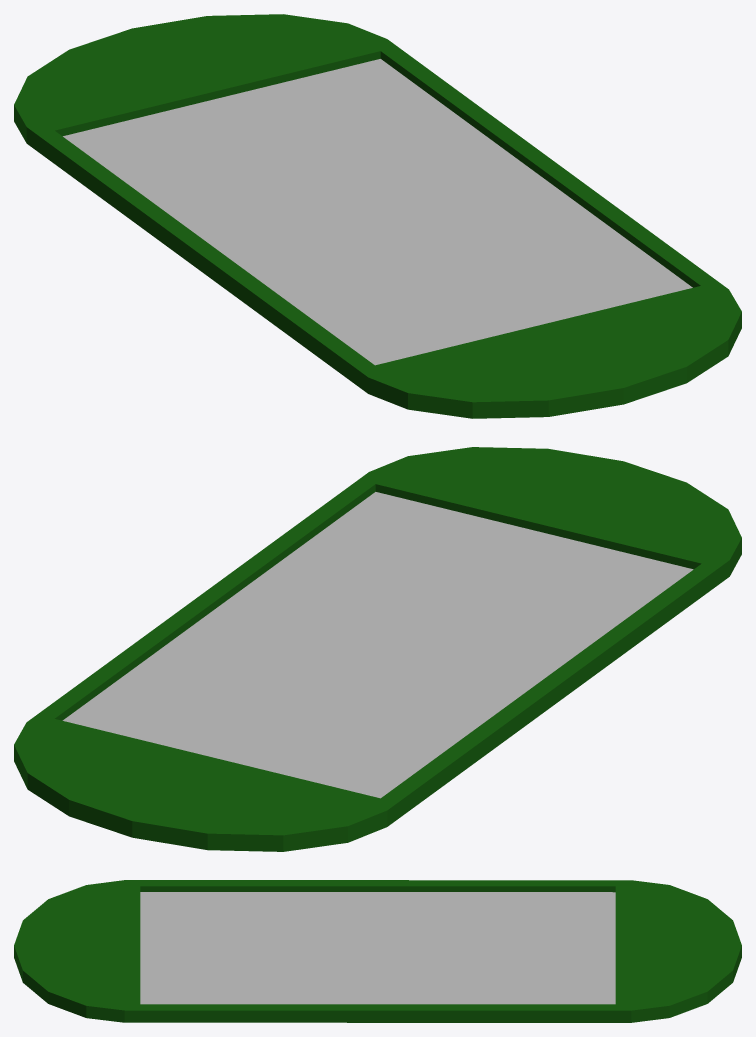
The model's file is Nametag.fbx.
3 renders of one model, top to bottom at view 1: azimuth 30°, elevation 25°; view 2: azimuth 150°, elevation 25°; view 3: azimuth 270°, elevation 25°, orthographic. The views are drawn at different scales.
Parts seen in each view (by area): view 1: Nametag; view 2: Nametag; view 3: Nametag.
Boxes of the visible parts, box(x1,y1,x2,y2) form: Nametag: box(14, 14, 741, 418); Nametag: box(14, 447, 741, 851); Nametag: box(14, 880, 741, 1022).
Size of the model in its own units: 8 by 18.86 by 0.3511.
